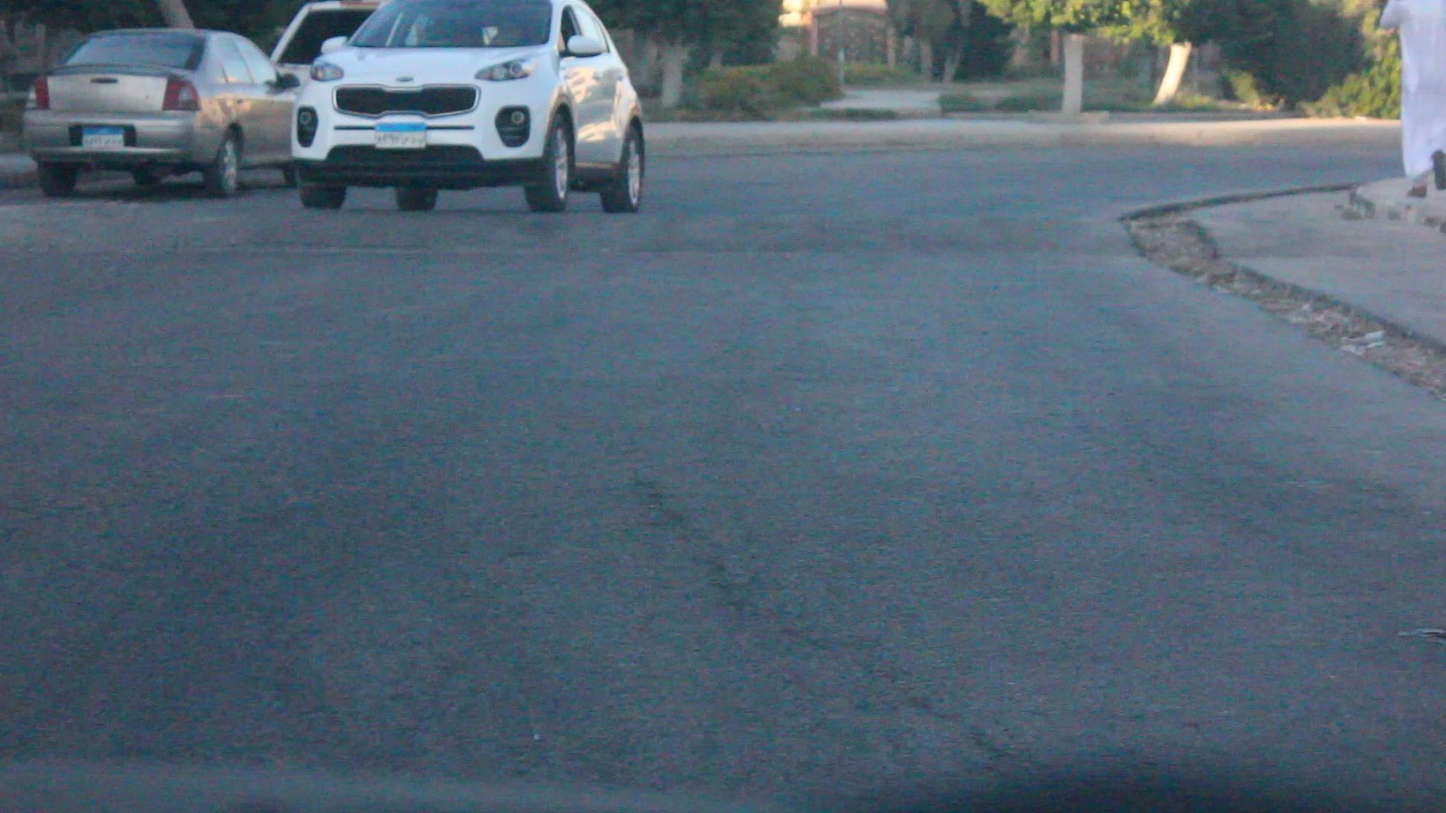Bump: (9, 198, 1184, 256)
